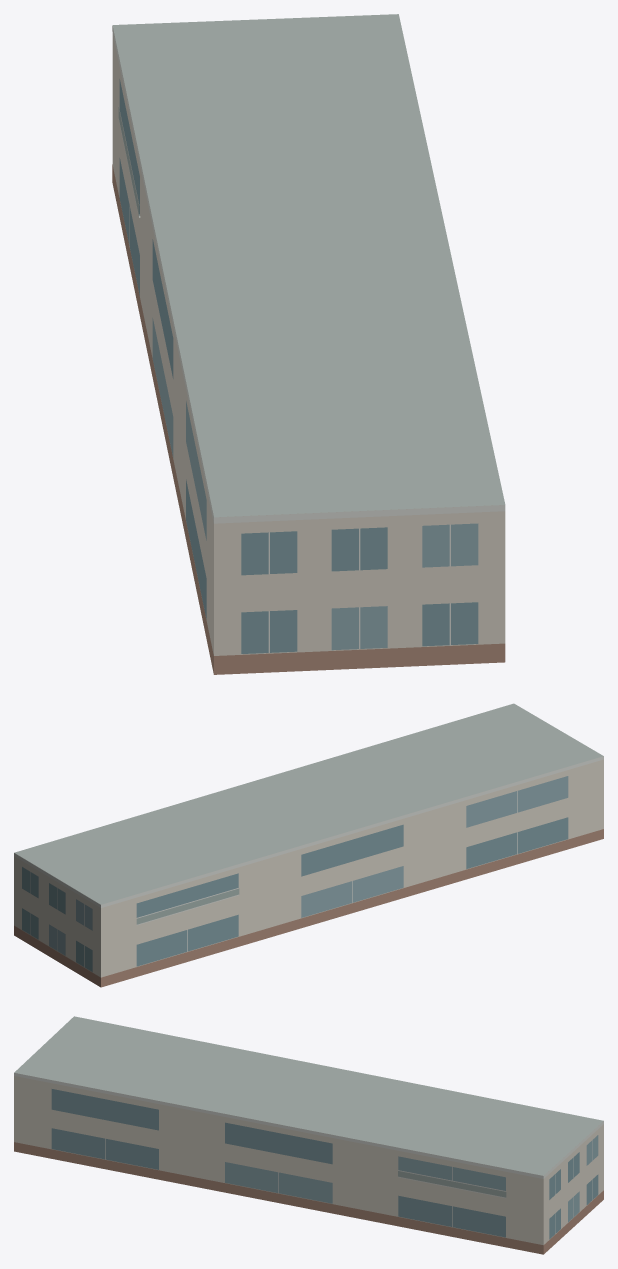
File: survey-upis-32606950.glb
3 renders of one model, top to bottom at view 1: azimuth 30°, elevation 25°; view 2: azimuth 150°, elevation 25°; view 3: azimuth 270°, elevation 25°, orthographic. The views are drawn at different scales.
Visible parts, largest first — view 1: survey-upis-32606950.tmp; view 2: survey-upis-32606950.tmp; view 3: survey-upis-32606950.tmp.
Part boxes in pixels (bbox=[...]): survey-upis-32606950.tmp: bbox=[112, 14, 505, 674]; survey-upis-32606950.tmp: bbox=[14, 703, 603, 987]; survey-upis-32606950.tmp: bbox=[14, 1016, 603, 1254].
Bounding box in the file's own units: 26.53 × 6.1 × 41.42.
